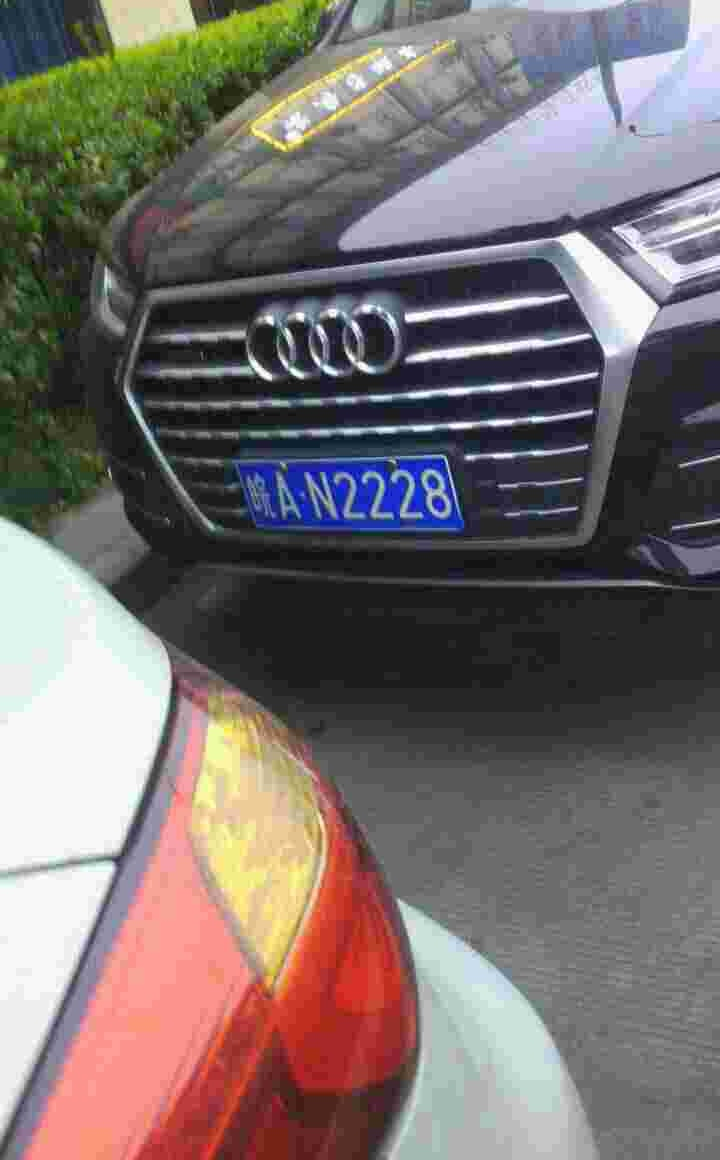plate: (228, 454, 470, 536)
